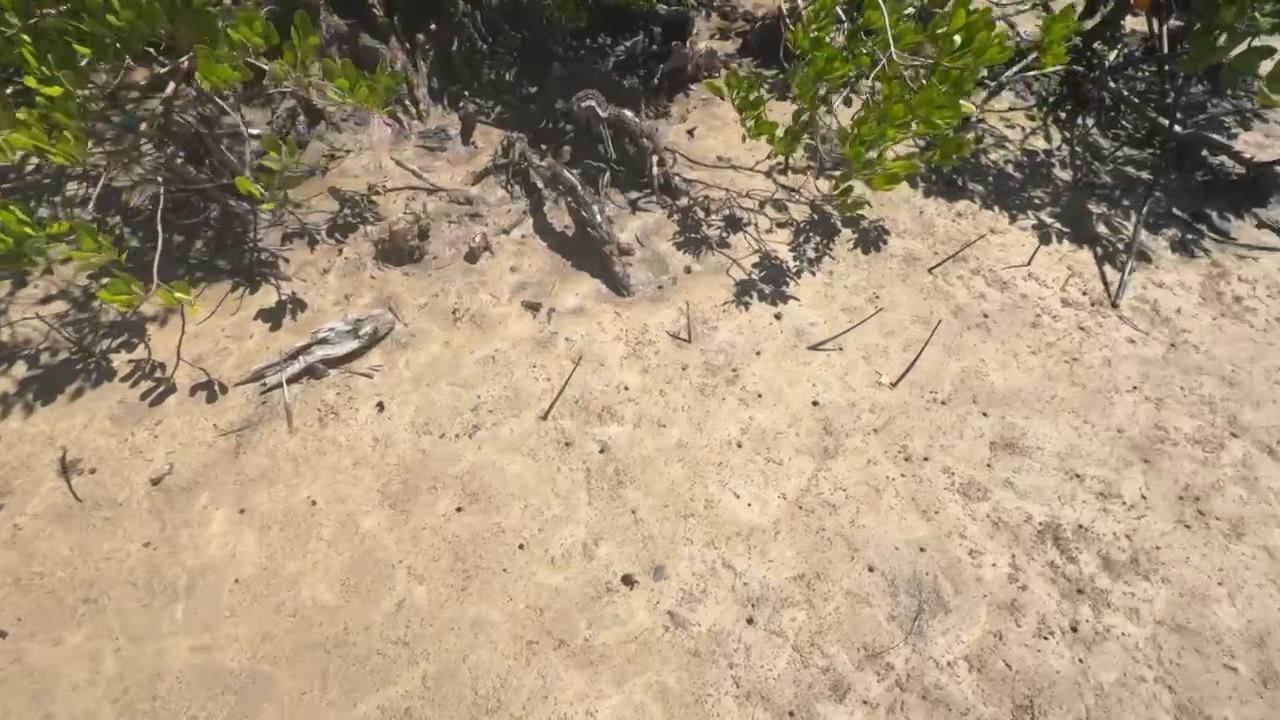Tree: (892, 321, 941, 387), (808, 308, 883, 349), (928, 231, 990, 272), (544, 356, 581, 421), (61, 452, 73, 489), (1027, 240, 1044, 266), (687, 301, 691, 344)
